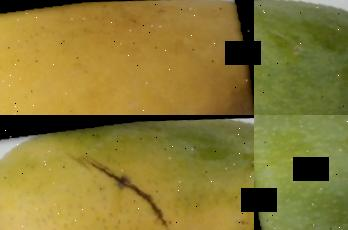PartiallyRipe: (0, 115, 254, 230)
Ripe: (0, 0, 254, 115)
Unripe: (254, 0, 348, 115), (254, 115, 348, 230)
